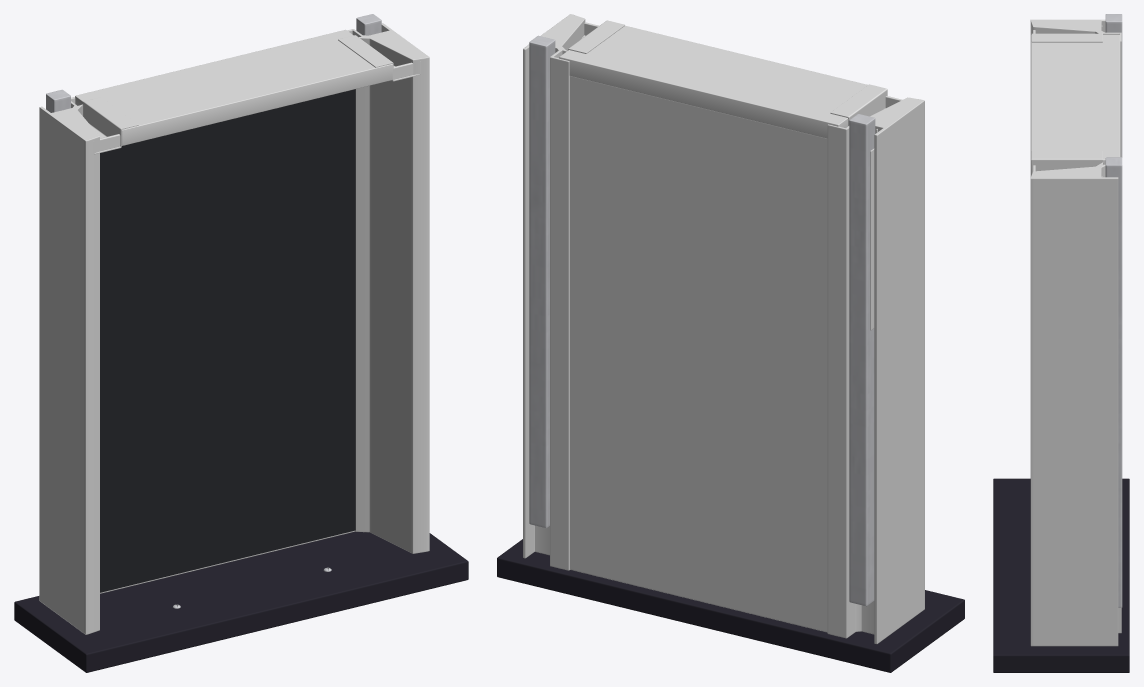
Rendered from SM_Kitchen_10_Drawer_01.obj.
3 views of the same model, side by side, from view 1: azimuth 30°, elevation 25°; view 2: azimuth 150°, elevation 25°; view 3: azimuth 270°, elevation 25° (orthographic). The views are drawn at different scales.
Parts seen in each view (by area): view 1: SM_Kitchen_06_Base_Drawer_01; view 2: SM_Kitchen_06_Base_Drawer_01; view 3: SM_Kitchen_06_Base_Drawer_01.
Boxes of the visible parts, bbox=[...] form: SM_Kitchen_06_Base_Drawer_01: bbox=[14, 14, 468, 672]; SM_Kitchen_06_Base_Drawer_01: bbox=[497, 14, 964, 672]; SM_Kitchen_06_Base_Drawer_01: bbox=[993, 14, 1129, 672].
Size of the model in its own units: 0.398 by 0.5199 by 0.13.
4 materials, 4 textured.
